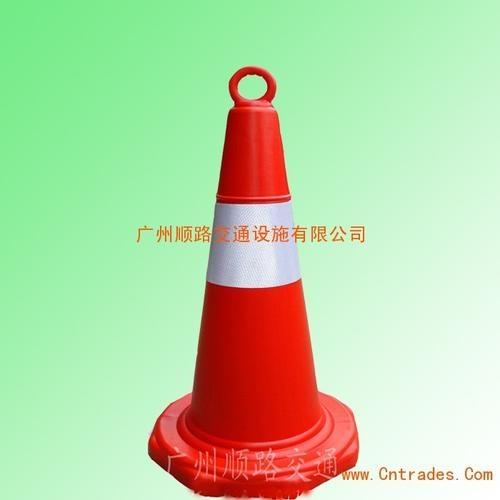cone_barrel: (168, 73, 348, 465)
